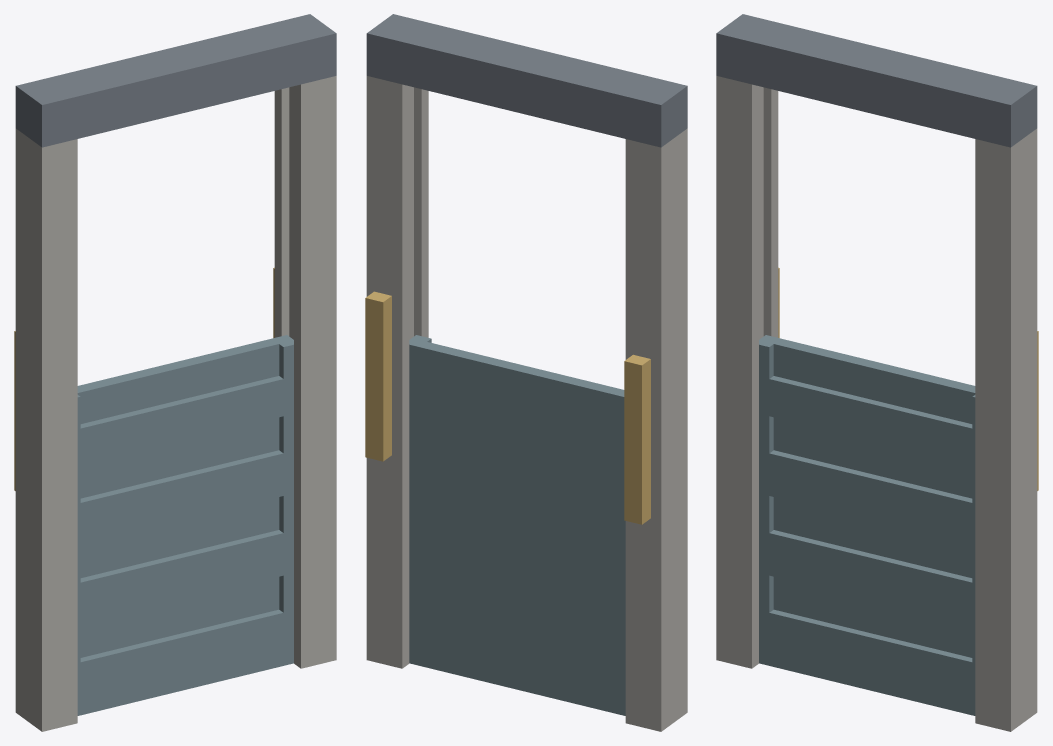
Rendered from esp2023_lift_gate.glb.
The picture shows the model from 3 angles, left to right: view 1: azimuth 30°, elevation 25°; view 2: azimuth 150°, elevation 25°; view 3: azimuth 330°, elevation 25°; orthographic projection.
Visible parts, largest first — view 1: lift gate panel, guide towers, lifting beam and winch house; view 2: lift gate panel, guide towers, lifting beam and winch house, counterweights; view 3: lift gate panel, guide towers, lifting beam and winch house.
Part boxes in pixels (x1,y1,x2,y2): lift gate panel: [77, 335, 293, 715]; guide towers: [15, 76, 336, 731]; lifting beam and winch house: [15, 14, 336, 147]; lift gate panel: [409, 335, 625, 715]; guide towers: [366, 76, 687, 731]; lifting beam and winch house: [366, 14, 687, 147]; counterweights: [365, 291, 650, 524]; lift gate panel: [759, 335, 975, 715]; guide towers: [716, 76, 1037, 731]; lifting beam and winch house: [716, 14, 1037, 147].
Size of the model in its own units: 5800 by 11800 by 1250.
